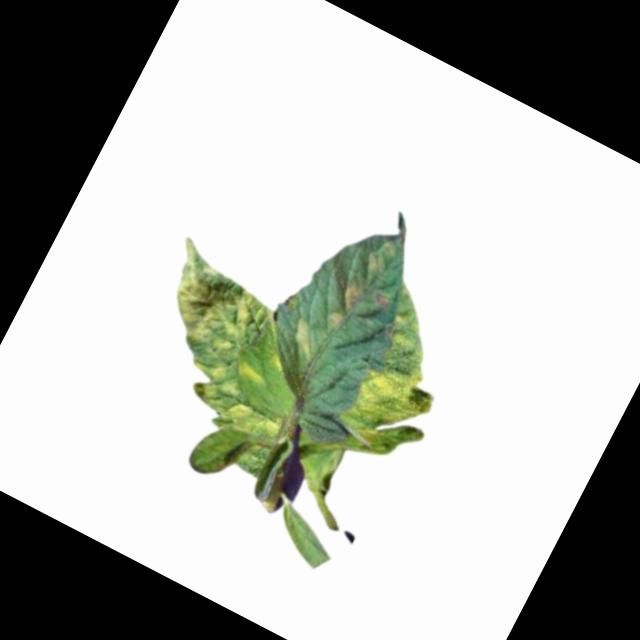Leaf_Mold: (128, 232, 285, 391), (337, 349, 450, 470), (188, 378, 285, 450), (280, 312, 323, 360), (331, 274, 368, 316), (358, 245, 393, 282), (235, 356, 270, 389), (322, 305, 348, 329)
